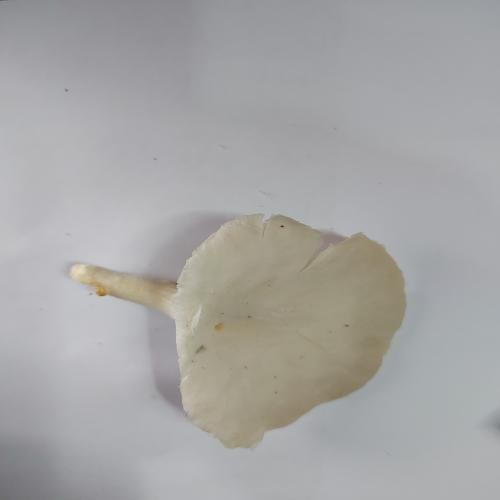Oyster Mushroom: (68, 212, 408, 451)
